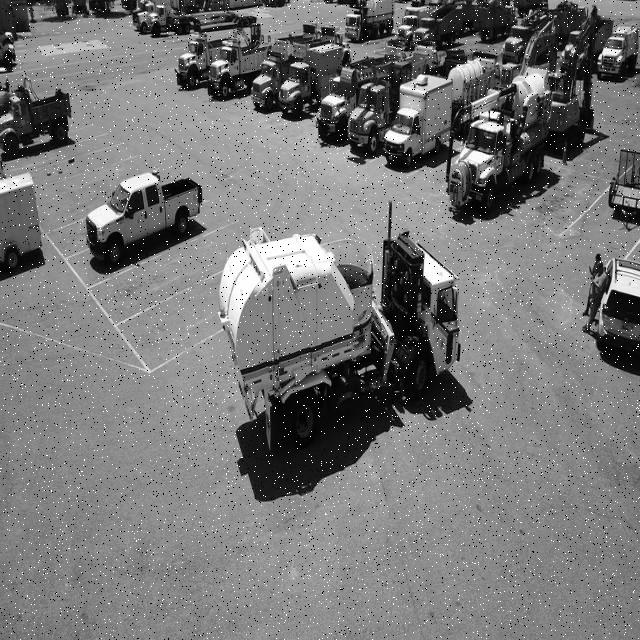Garbage Truck: (219, 202, 461, 453)
